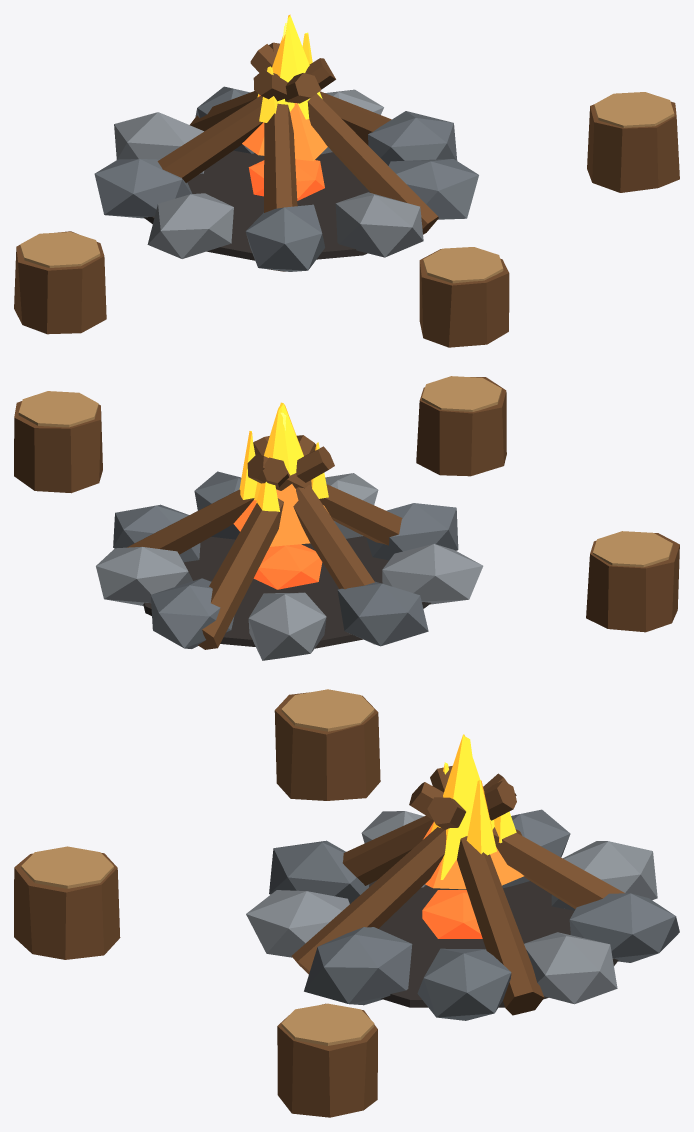
Rendered from prop_campfire_v01.glb.
3 views of the same model, one above another, from view 1: azimuth 30°, elevation 25°; view 2: azimuth 150°, elevation 25°; view 3: azimuth 270°, elevation 25° (orthographic). The views are drawn at different scales.
Parts seen in each view (by area): view 1: prop_campfire_v01; view 2: prop_campfire_v01; view 3: prop_campfire_v01.
Boxes of the visible parts, box(x1,y1,x2,y2) form: prop_campfire_v01: box(14, 14, 679, 347); prop_campfire_v01: box(14, 376, 679, 660); prop_campfire_v01: box(14, 689, 679, 1117).
Bounding box in the file's own units: 4.95 × 1.41 × 3.87.
